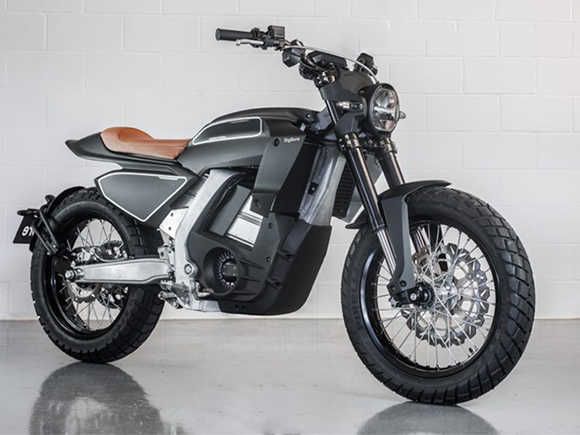motorcycle: (12, 26, 544, 405)
